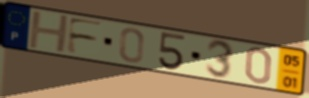0: (243, 46, 274, 86), (118, 26, 146, 65)
3: (204, 37, 235, 82)
5: (157, 31, 187, 72)
F: (64, 16, 106, 56)
H: (27, 10, 72, 54)
